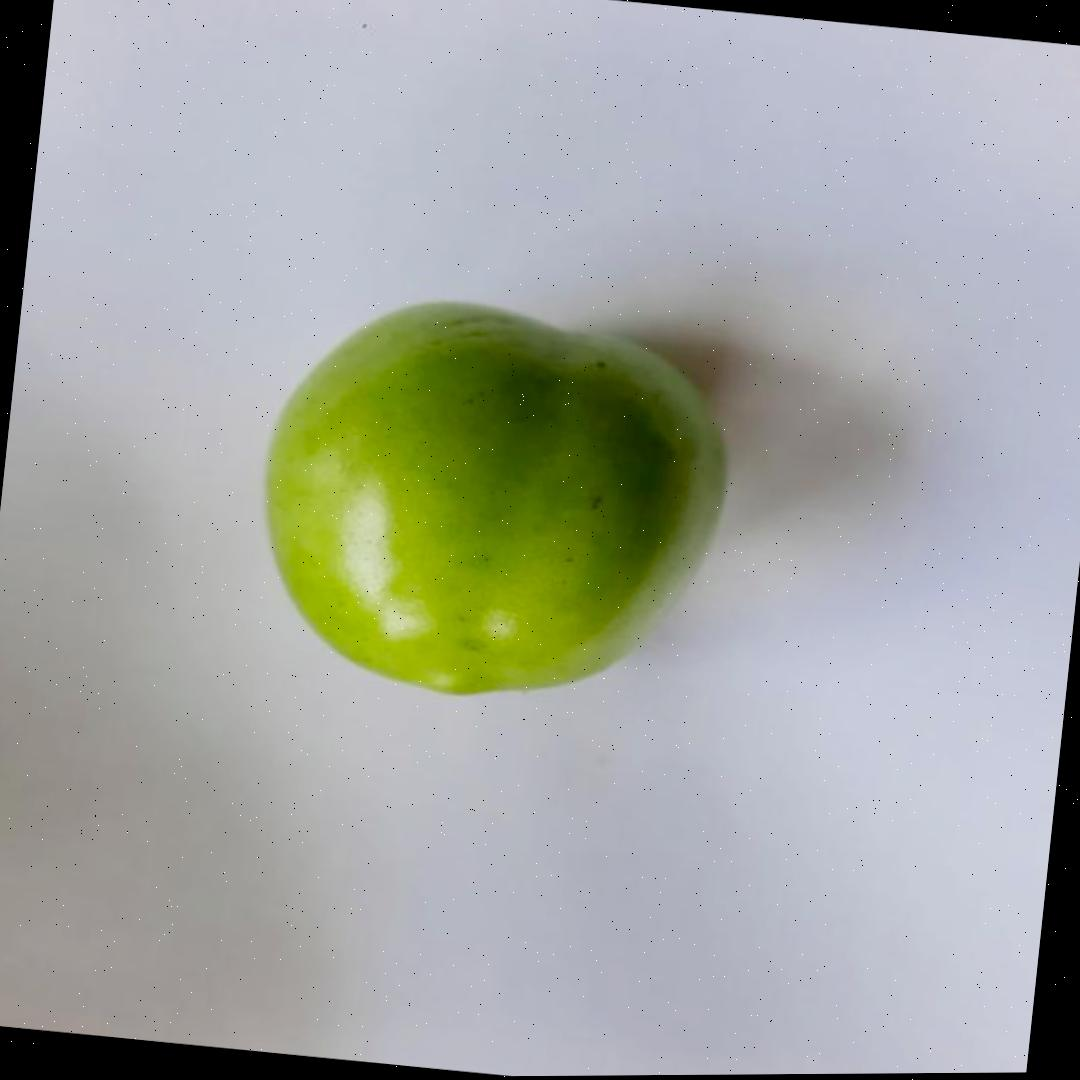mentah: (240, 280, 748, 725)
